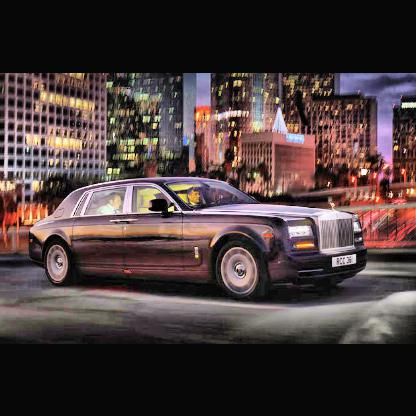Rolls-Royce Phantom Sedan 2012: (27, 175, 368, 299)
